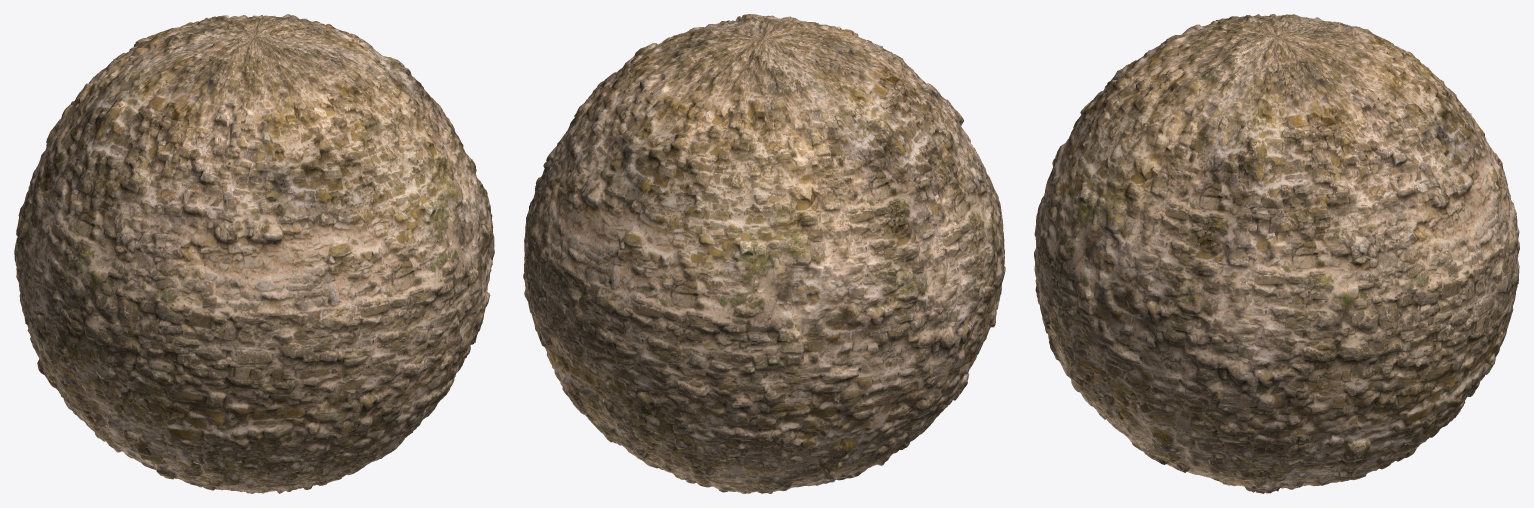
Rendered from defense_wall_02_1k.gltf.
3 views of the same model, side by side, from view 1: azimuth 30°, elevation 25°; view 2: azimuth 150°, elevation 25°; view 3: azimuth 270°, elevation 25° (orthographic).
Parts seen in each view (by area): view 1: sphere_gltf; view 2: sphere_gltf; view 3: sphere_gltf.
Boxes of the visible parts, <box> form: sphere_gltf: <box>14,14,494,493</box>; sphere_gltf: <box>523,14,1005,493</box>; sphere_gltf: <box>1034,14,1519,493</box>.
Size of the model in its own units: 12.15 by 12.19 by 12.26.
1 material, 1 textured.
